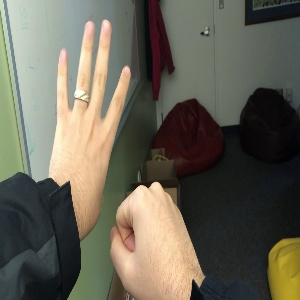hand: (47, 19, 130, 203), (108, 182, 203, 288)
